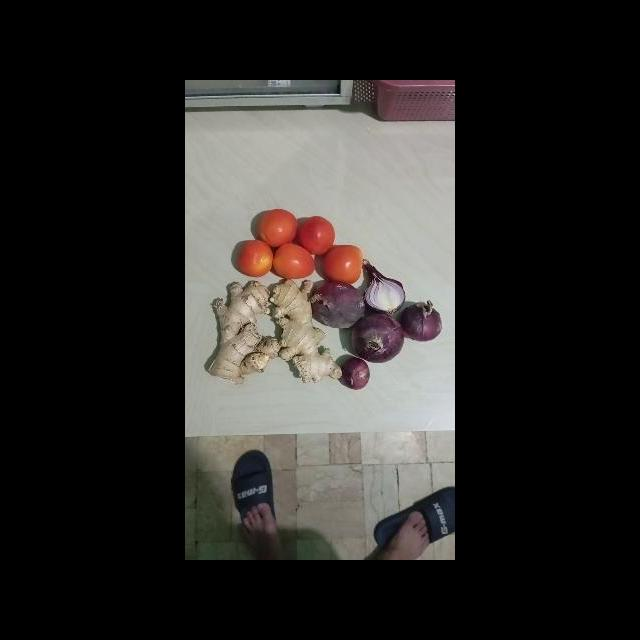ginger: (268, 279, 343, 383), (206, 280, 281, 381)
onion: (308, 280, 366, 330), (351, 313, 405, 365), (362, 257, 408, 314), (404, 299, 443, 341), (343, 355, 372, 390)
